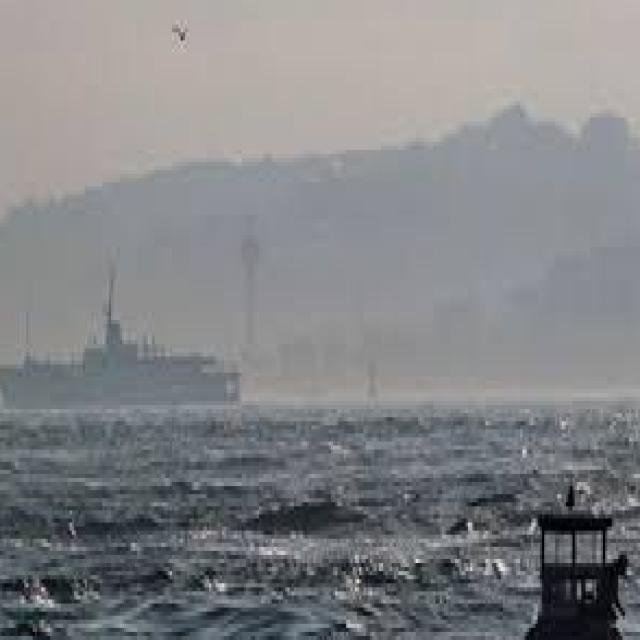navalvessels: (0, 259, 242, 401)
